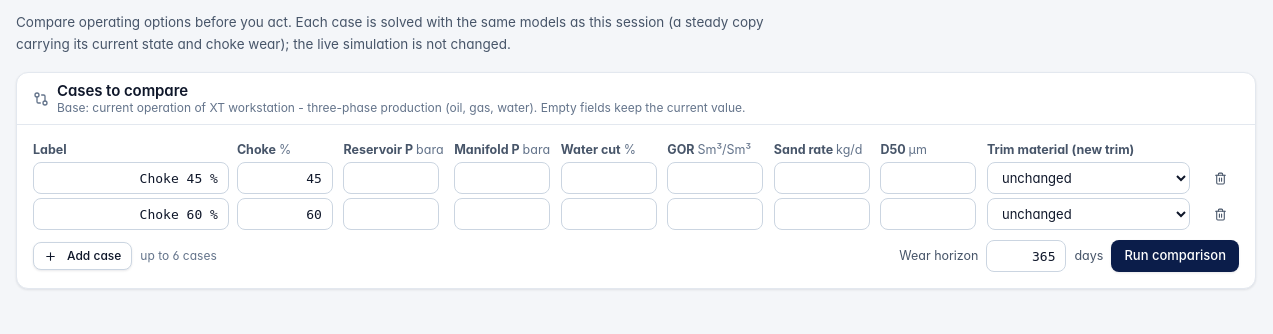
Test: Scenario comparison page › shows why a study was rejected
The width and height of the screenshot is (1273, 334).
Click the button with test id "run-comparison". click: (1175, 256)
box: [1111, 240, 1239, 272]
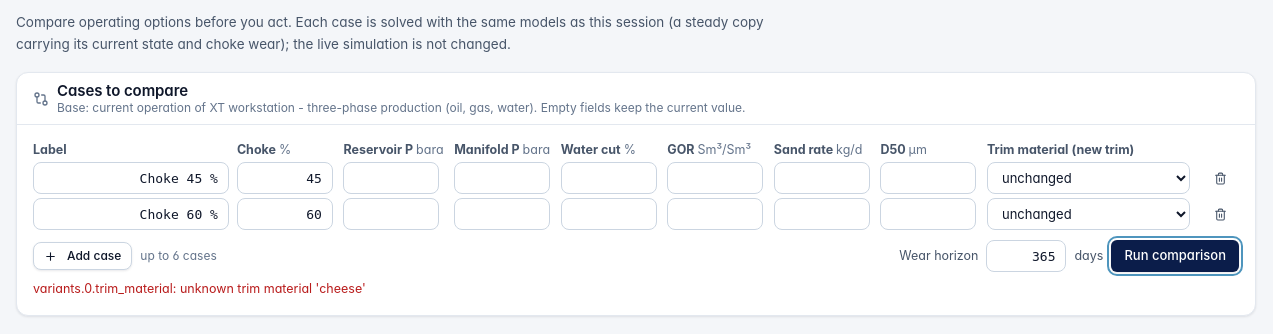
Check: the text with test id "comparison-error" shows "unknown trim material", box [33, 281, 366, 296]
